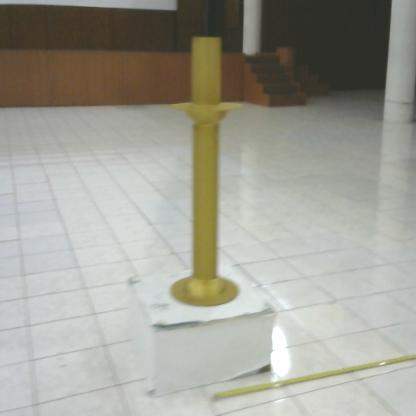pole: (163, 34, 247, 312)
